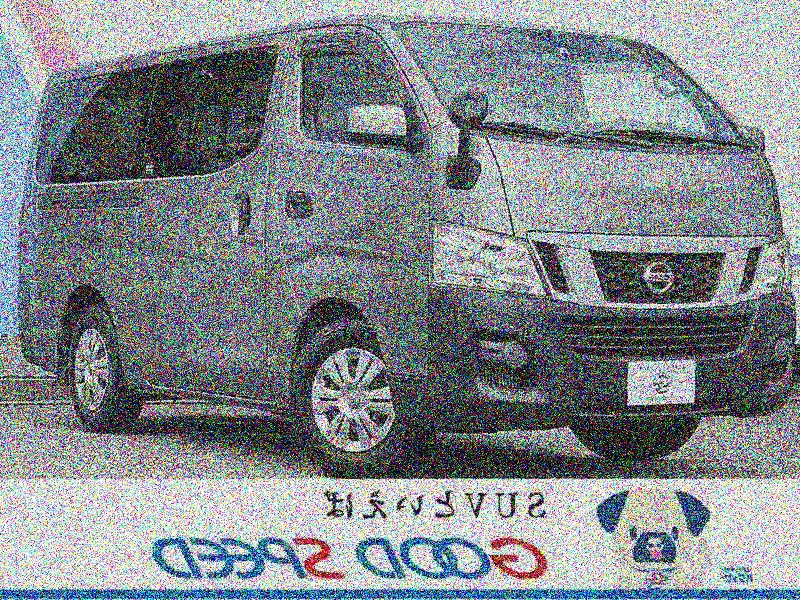van: (14, 13, 796, 472)
